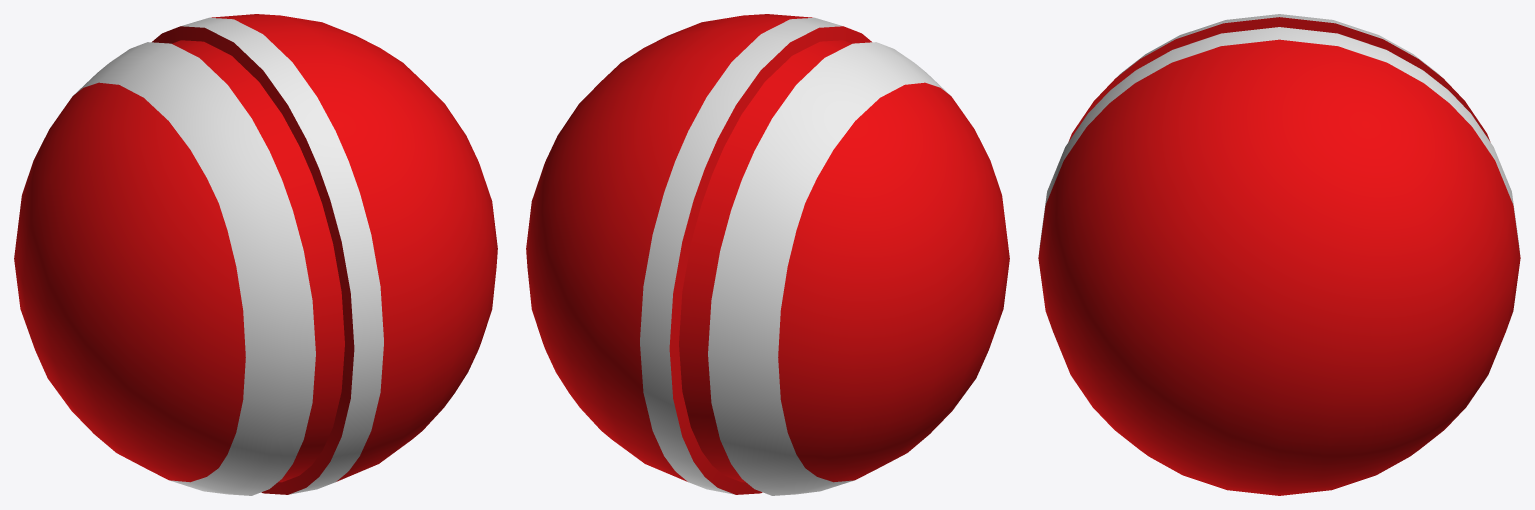
The model's file is resulta 1.fbx.
The picture shows the model from 3 angles, left to right: view 1: azimuth 30°, elevation 25°; view 2: azimuth 150°, elevation 25°; view 3: azimuth 270°, elevation 25°; orthographic projection.
Visible parts, largest first — view 1: Cube; view 2: Cube; view 3: Cube.
Part boxes in pixels (left/top/right/bottom): Cube: left=14, top=14, right=497, bottom=495; Cube: left=526, top=14, right=1009, bottom=495; Cube: left=1038, top=14, right=1520, bottom=495.
Bounding box in the file's own units: 10001 × 9994 × 9994.
